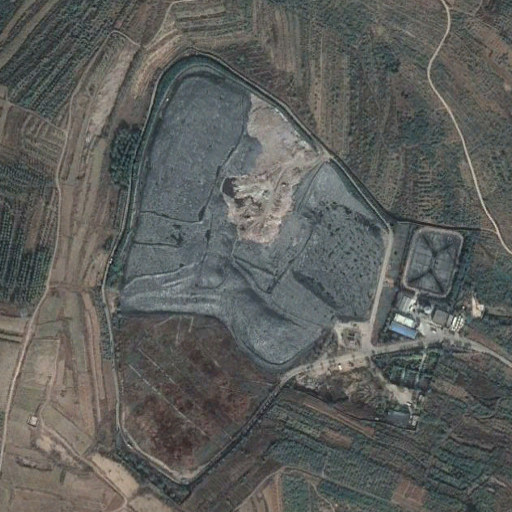lf: (107, 53, 387, 365)
